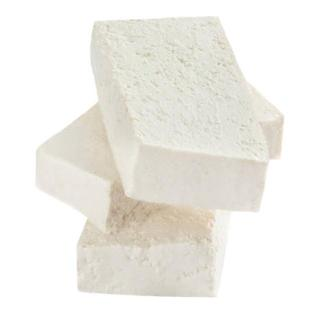Tahu: (85, 15, 275, 222), (31, 104, 149, 242), (72, 214, 236, 307)
